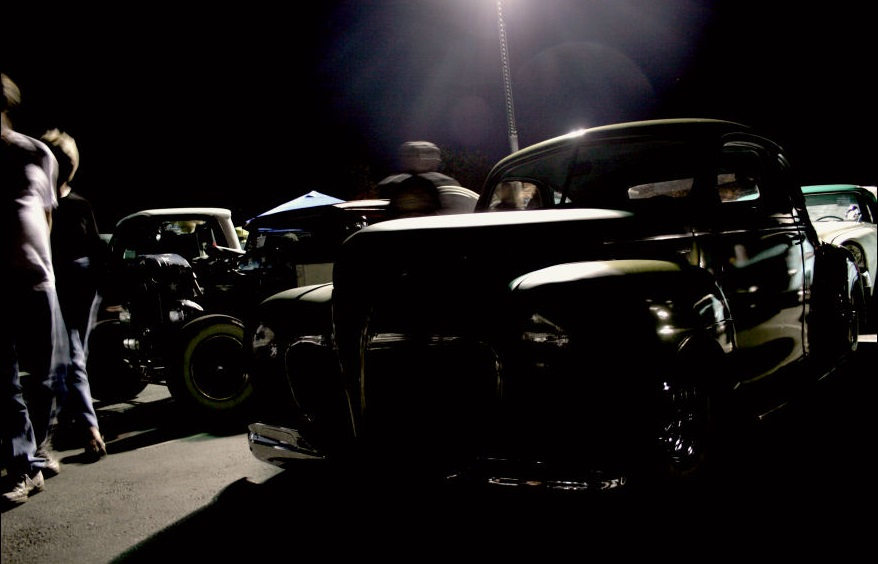car: (241, 115, 870, 526)
